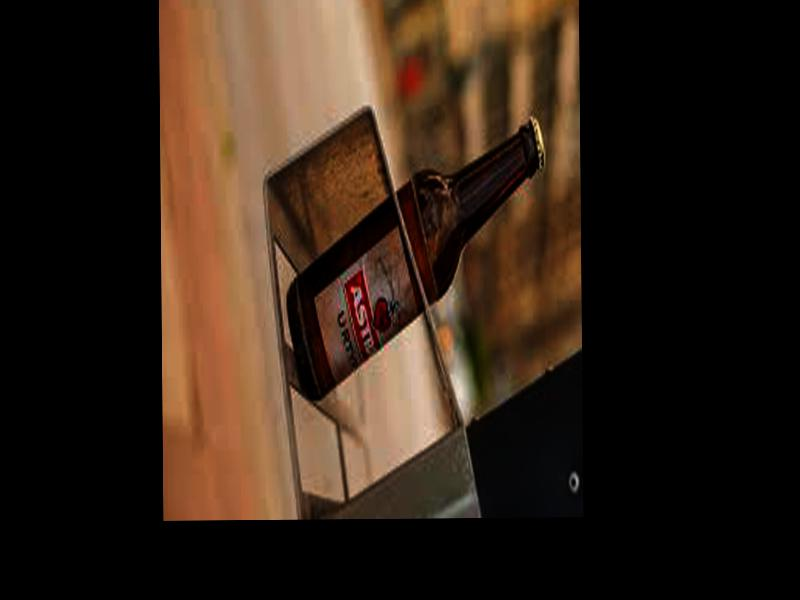Beer: (284, 113, 548, 403)
